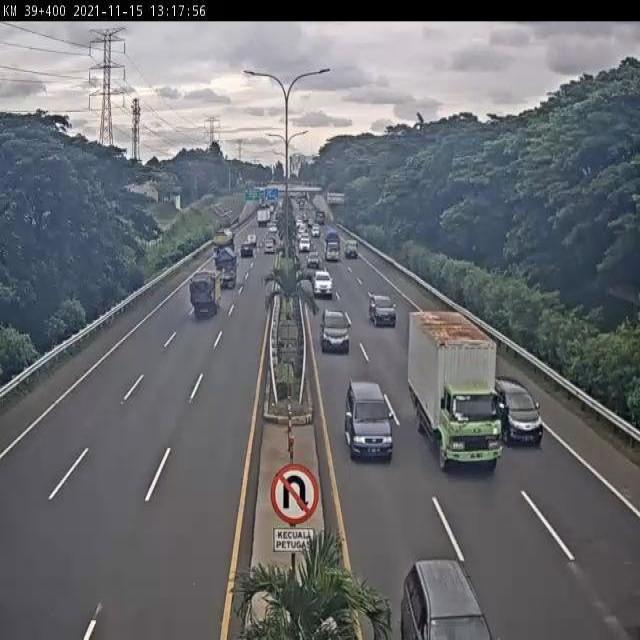ARABA: (342, 381, 395, 467), (490, 376, 543, 447), (319, 307, 353, 356), (369, 292, 399, 331), (311, 268, 334, 299)
KAMYONET: (409, 308, 502, 471), (188, 271, 219, 317), (212, 247, 240, 288)
